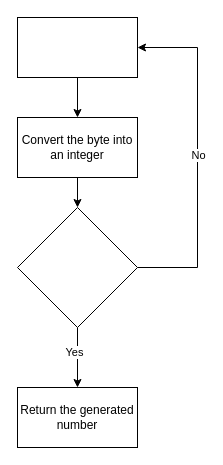
This 223x465 diagram has some shape labels left out. Each missing label, with the centre of its shape:
"Fetch a random byte from the computer" goes at [77,47].
"Is the number within the specified range?" goes at [77,267].
